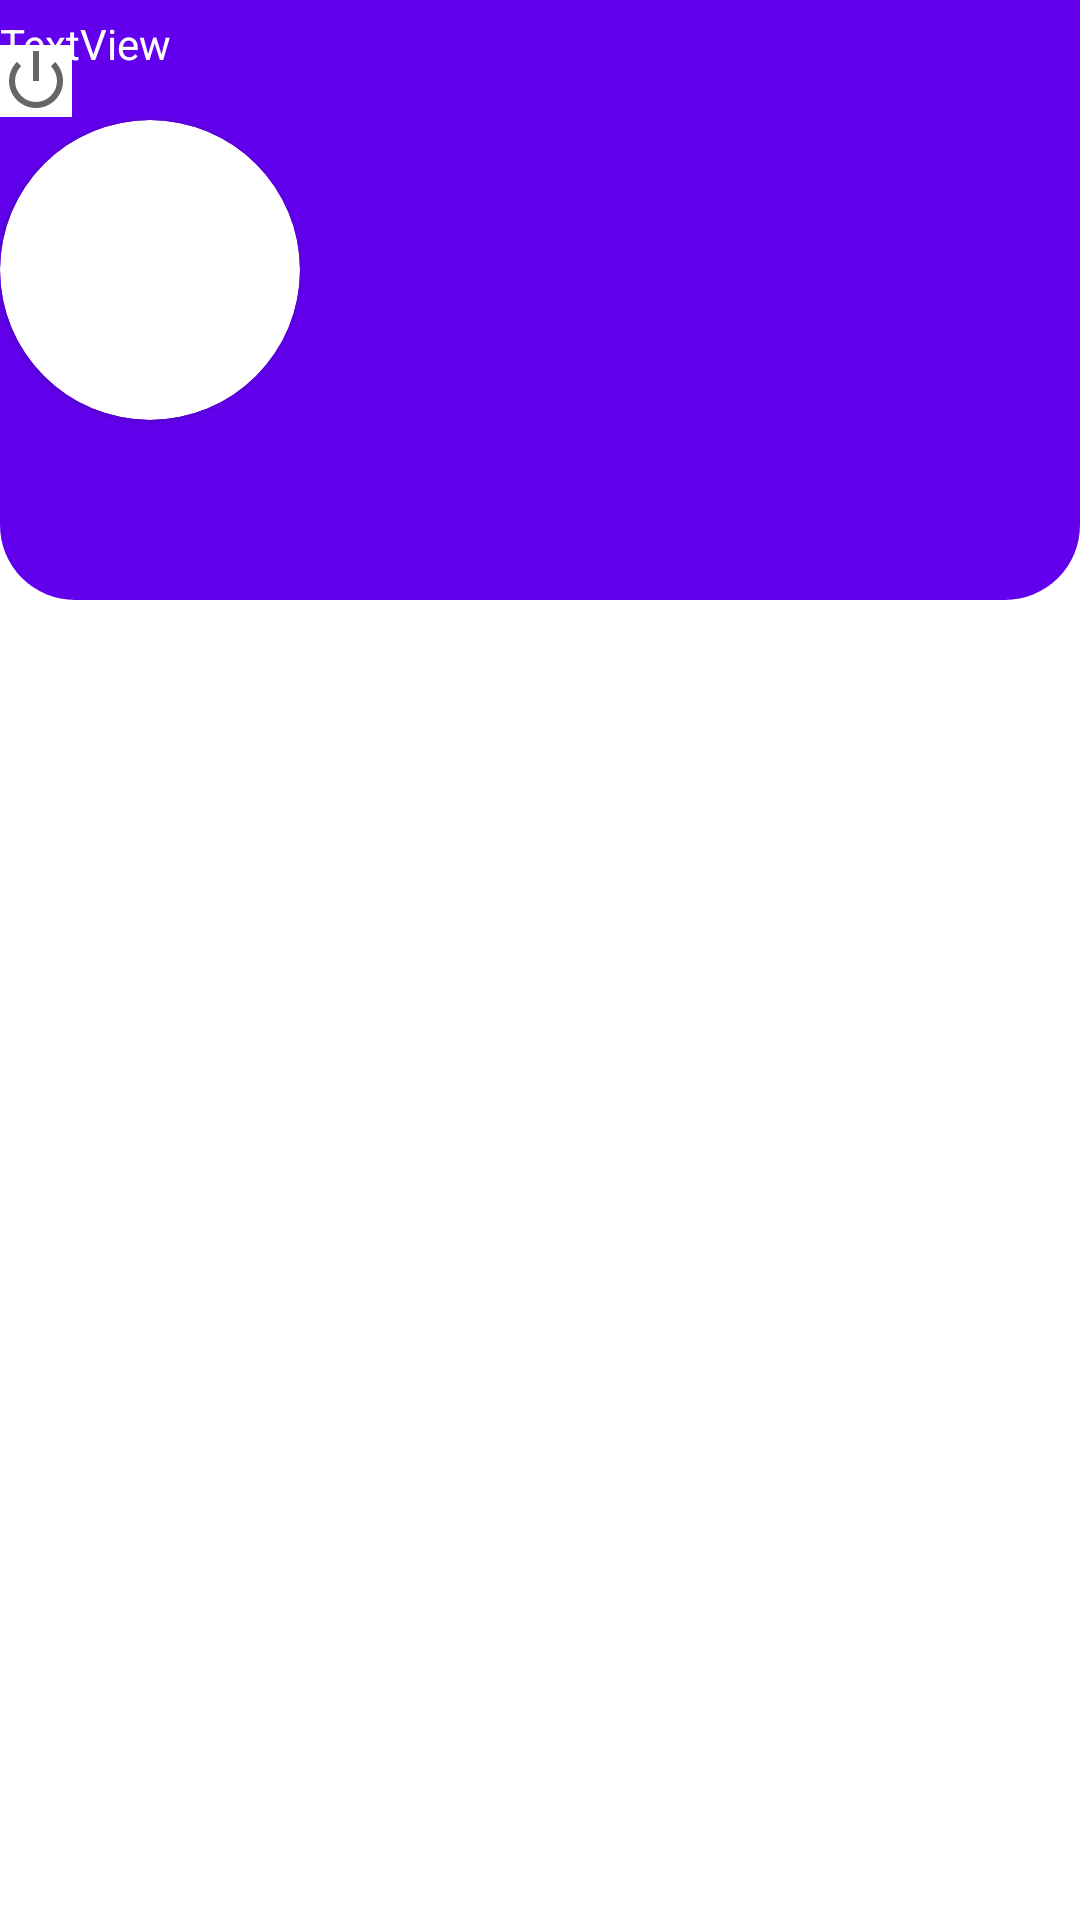

Where to tap for icons on this 1080 × 1920 app screen, as (x=x, y=y):
lock power off: (x=36, y=81)
